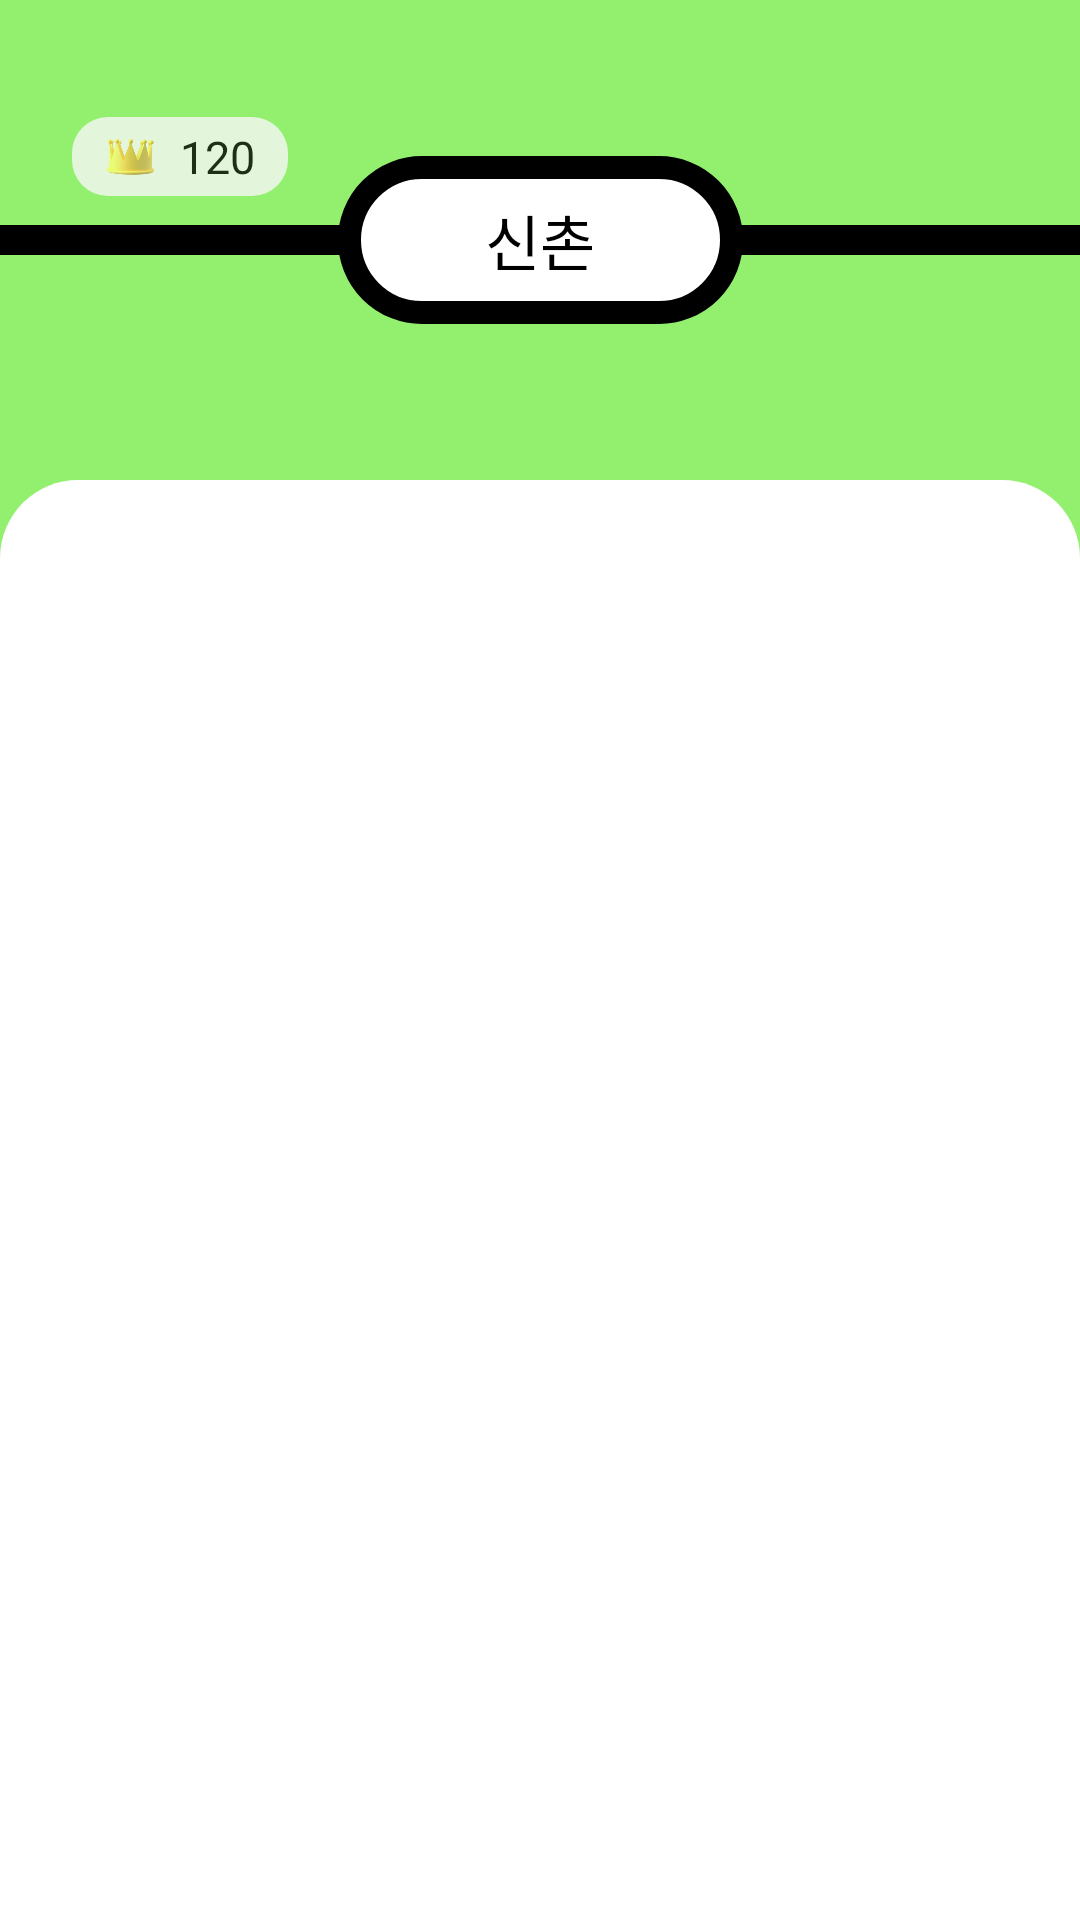

Locate icon controls on the screen. Image size 1080px x 1920px, boxes as (left=x1, top=y1, right=x2, bottom=y2).
crown: (left=106, top=139, right=154, bottom=175)
